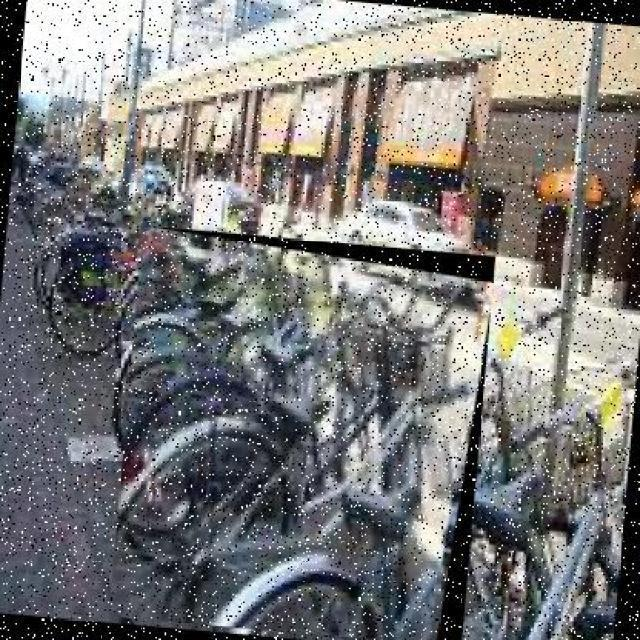bicycle: (111, 227, 500, 640)
